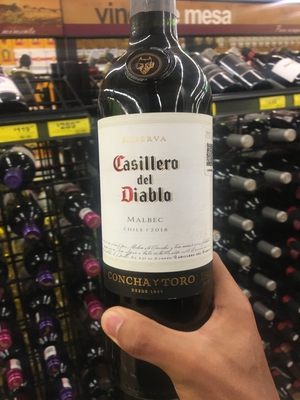casillero del diablo malbec: (90, 10, 259, 371)
